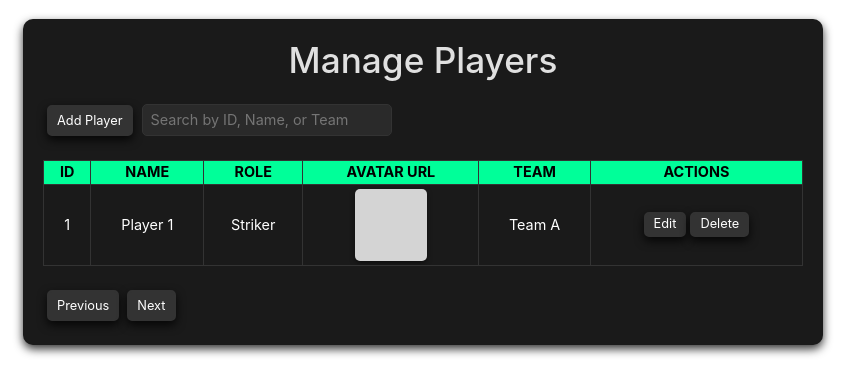
it: PlayersAdmin Component › renders pagination buttons and handles navigation
Expected: the text "Player 1" is shown, [91,184,204,265]
Expected: the text "Player 2" is not shown
# Simulate clicking the "Next" button
Click the button "Next": (151, 305) [127,290,176,321]
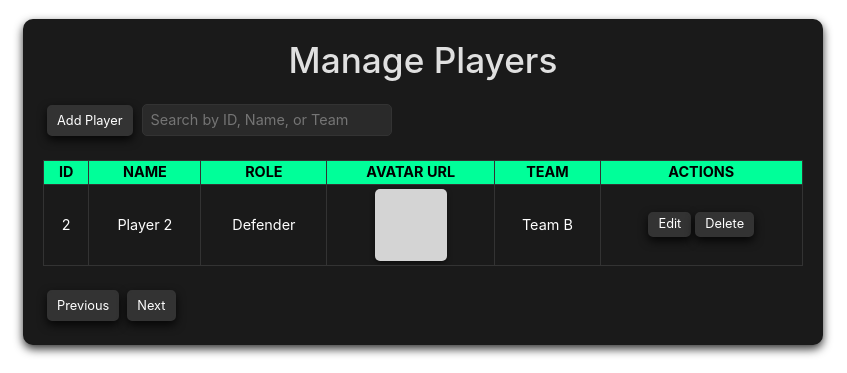
Now the text "Player 2" is shown, box [89,184,201,265]
Now the text "Player 1" is gone
# Simulate clicking the "Previous" button
Click the button "Previous": (83, 305) [47,290,119,321]
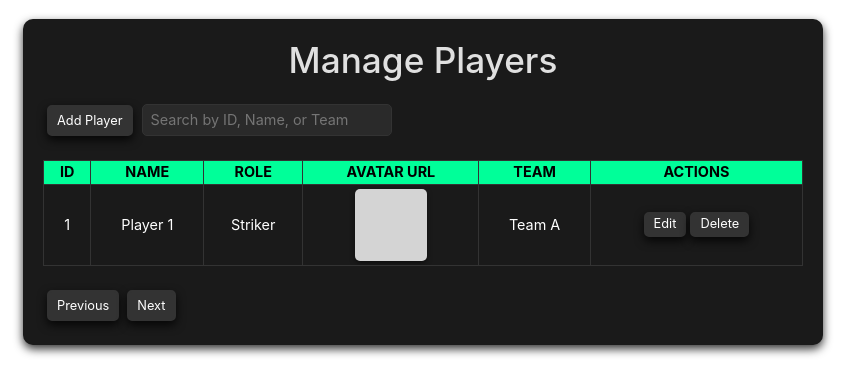
Now the text "Player 1" is shown, box [91,184,204,265]
Now the text "Player 2" is gone
